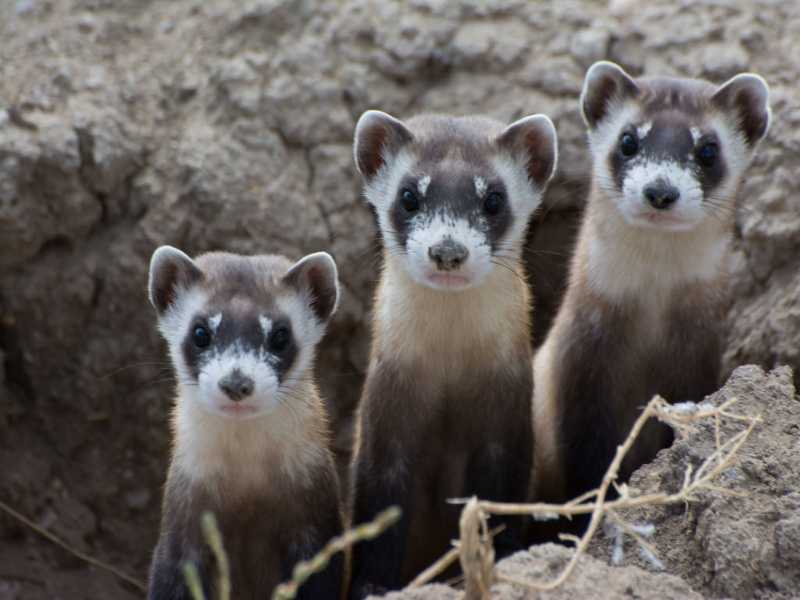minkish: (524, 55, 775, 540), (345, 110, 558, 573), (141, 242, 353, 600)
